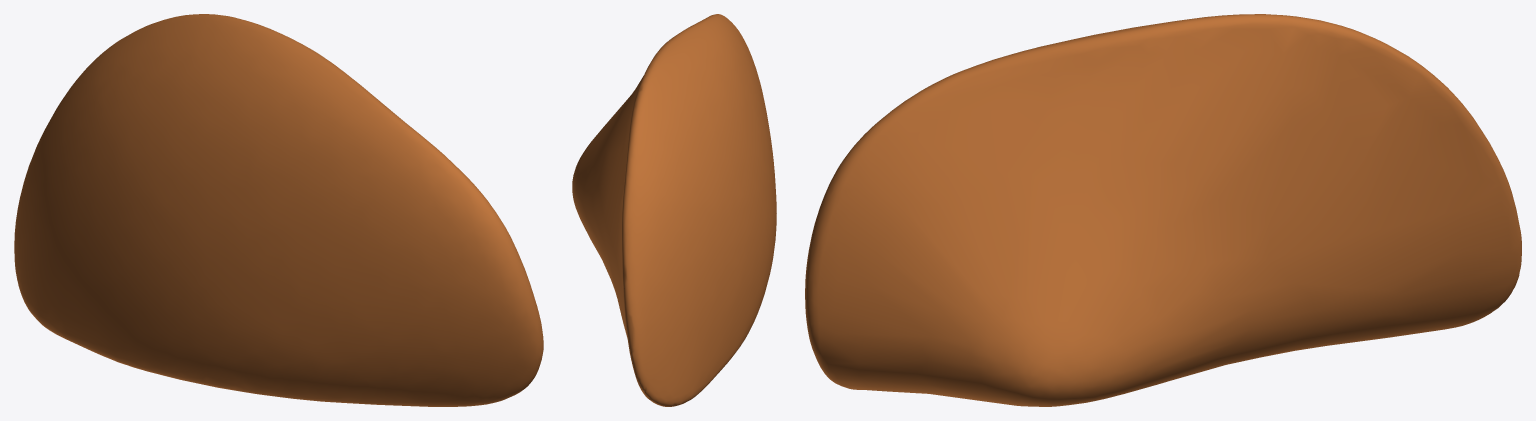
File: Globus_pallidus_right.glb
3 views of the same model, side by side, from view 1: azimuth 30°, elevation 25°; view 2: azimuth 150°, elevation 25°; view 3: azimuth 270°, elevation 25° (orthographic). The views are drawn at different scales.
Parts seen in each view (by area): view 1: Globus_pallidus.r_grp1.096; view 2: Globus_pallidus.r_grp1.096; view 3: Globus_pallidus.r_grp1.096.
Boxes of the visible parts, x1,y1,x2,y2 form: Globus_pallidus.r_grp1.096: (14, 14, 543, 406); Globus_pallidus.r_grp1.096: (572, 14, 776, 406); Globus_pallidus.r_grp1.096: (805, 14, 1521, 406).
Bounding box in the file's own units: 0.0162 × 0.0168 × 0.0284.
